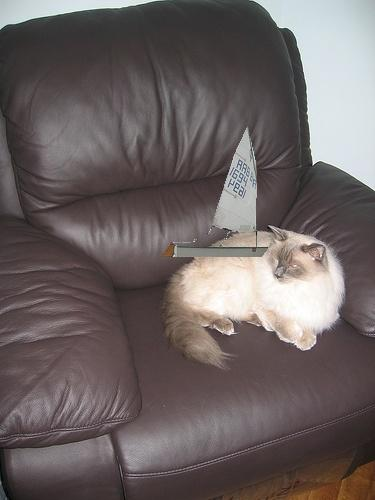tampered: (162, 127, 268, 257)
